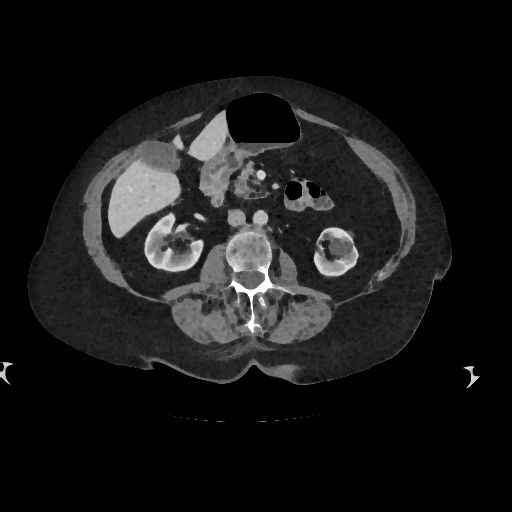Lesion: (325, 235, 356, 261)
